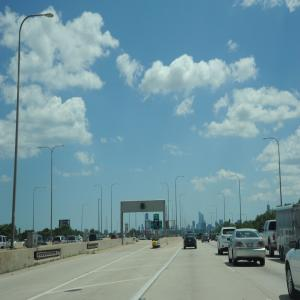Vehicle-registration-plate: (248, 242, 254, 249)
